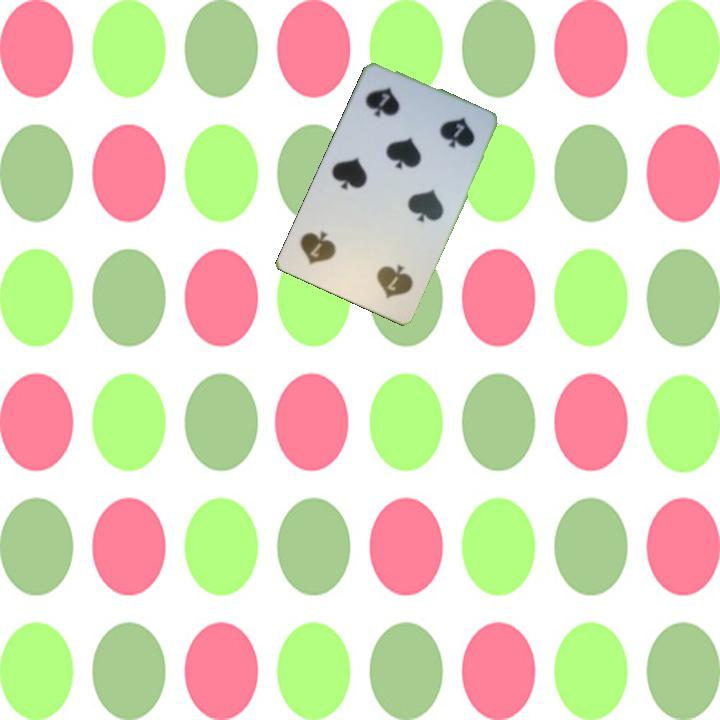s_7.png: (351, 70, 434, 149), (343, 235, 426, 314)
